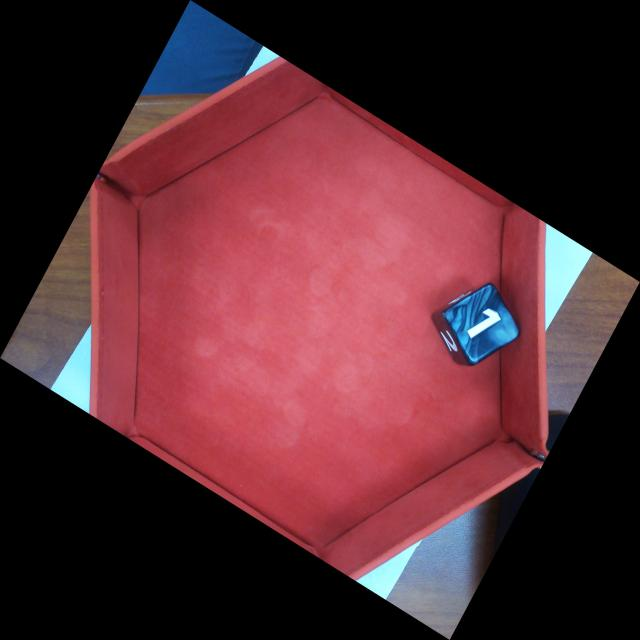dice: (440, 278, 526, 372)
